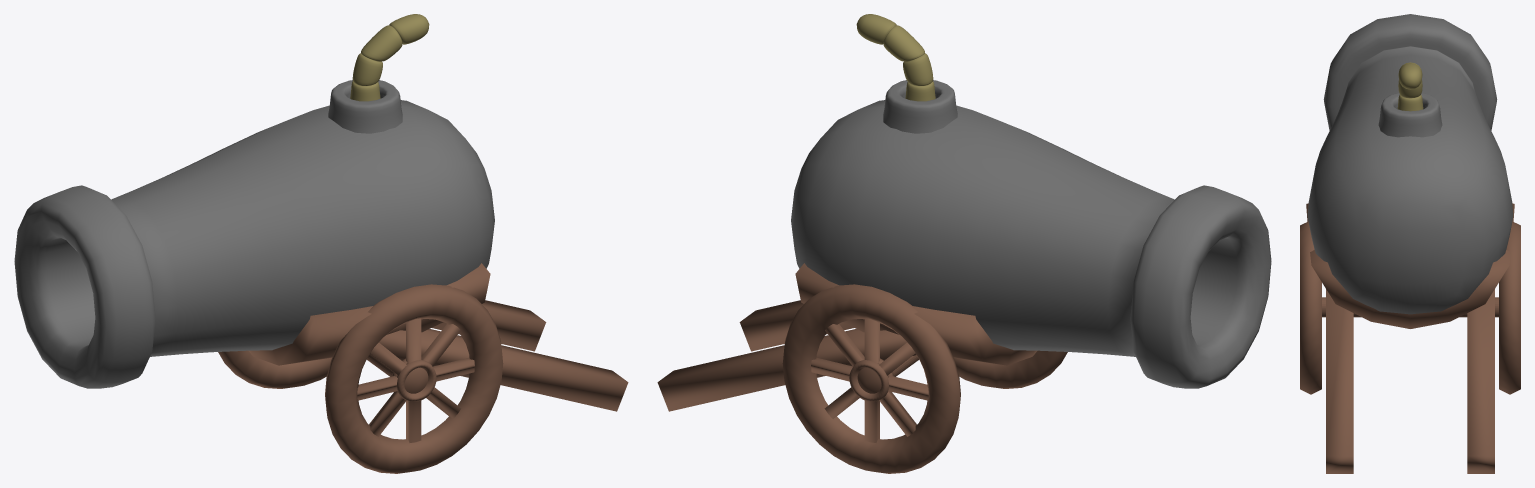
The model's file is Cañon.fbx.
3 views of the same model, side by side, from view 1: azimuth 30°, elevation 25°; view 2: azimuth 150°, elevation 25°; view 3: azimuth 270°, elevation 25° (orthographic). The views are drawn at different scales.
Parts seen in each view (by area): view 1: Cube.001, Cube.003; view 2: Cube.001, Cube.003; view 3: Cube.001, Cube.003.
Boxes of the visible parts, box(x1,y1,x2,y2) form: Cube.001: box(14, 100, 494, 388); Cube.003: box(218, 14, 628, 473); Cube.001: box(791, 100, 1271, 388); Cube.003: box(657, 14, 1067, 473); Cube.001: box(1307, 14, 1513, 314); Cube.003: box(1300, 62, 1520, 473).
Bounding box in the file's own units: 630 × 461 × 269.
